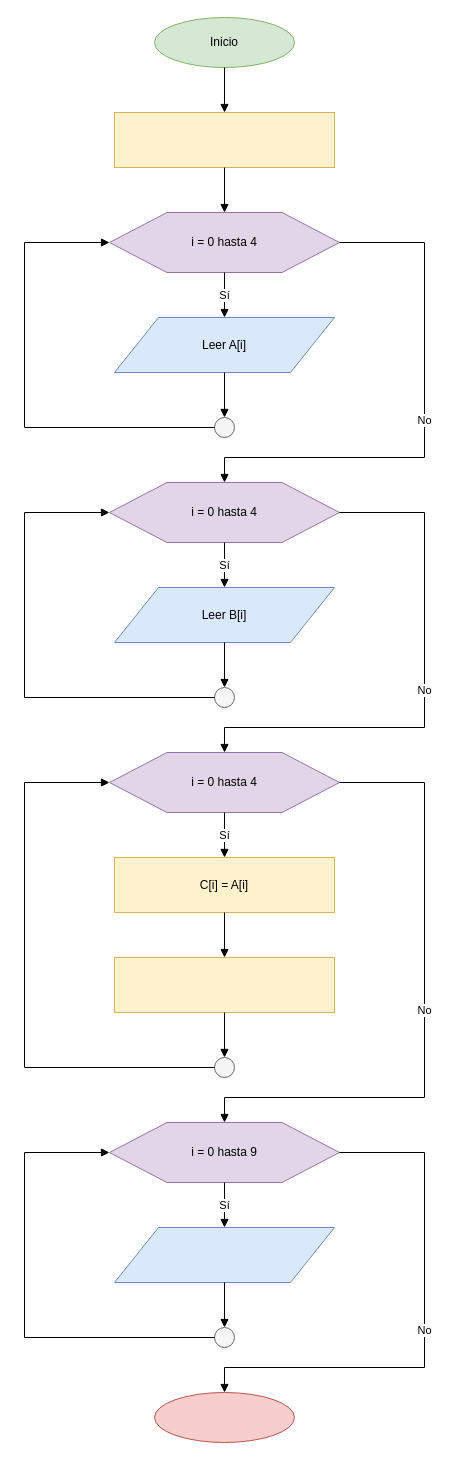
The diagram is 450 pixels wide and 1460 high, and some of its shapes have lost their labels. Each missing label, with the box of its shape:
C[i+5] = B[i]: (114, 956, 334, 1012)
Declarar A[5], B[5], C[10]: (114, 112, 334, 168)
Fin: (154, 1392, 294, 1442)
Imprimir C[i]: (114, 1226, 334, 1282)
